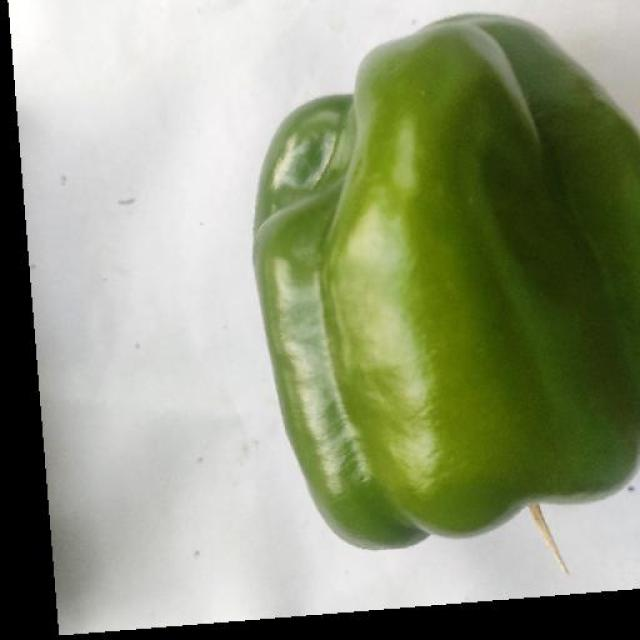Stale_Capsicum: (225, 11, 640, 597)
